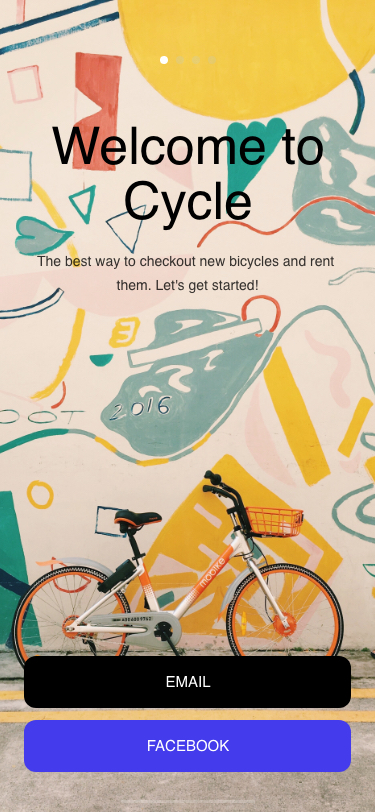BackgroundImage: (1, 1, 375, 812)
Text: (52, 126, 324, 232), (37, 256, 335, 294)
TextButton: (25, 656, 351, 708), (25, 720, 351, 772)
